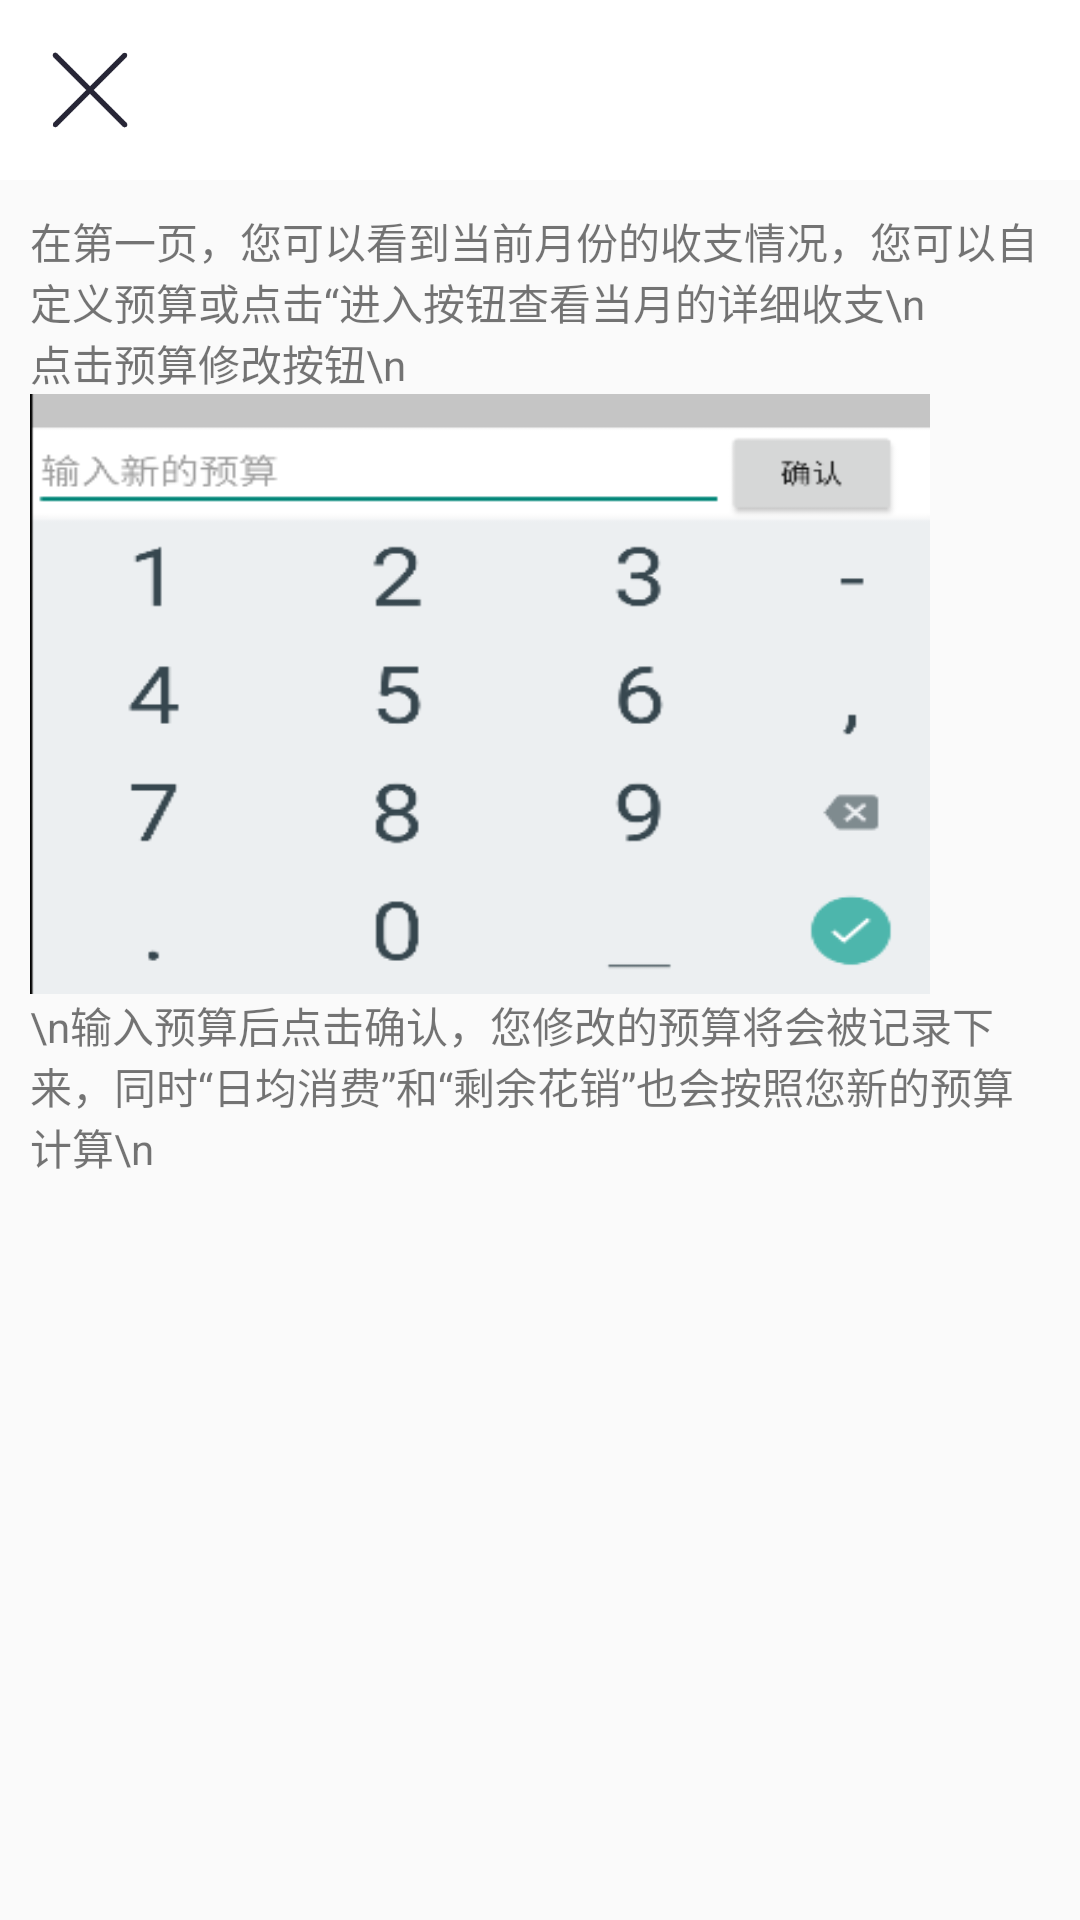

Locate icon controls on the screen. Image size 1080*1920, boxes as (x1, y1, x2, y2).
return: (52, 52, 128, 128)
